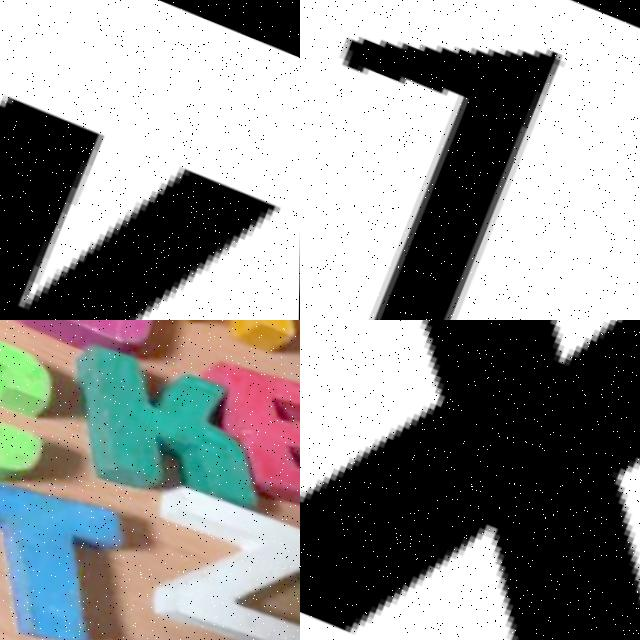1: (300, 0, 640, 320)
C: (0, 320, 70, 497)
E: (157, 335, 300, 545)
K: (56, 341, 296, 521)
R: (106, 320, 300, 364)
T: (0, 444, 151, 640)
U: (0, 320, 192, 370)
W: (0, 0, 289, 320)
X: (300, 320, 640, 640)
Z: (131, 477, 300, 640)
